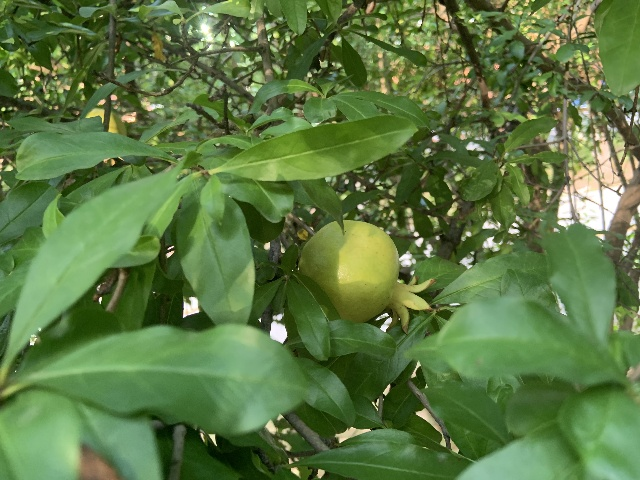mid-growth: (298, 219, 434, 333)
